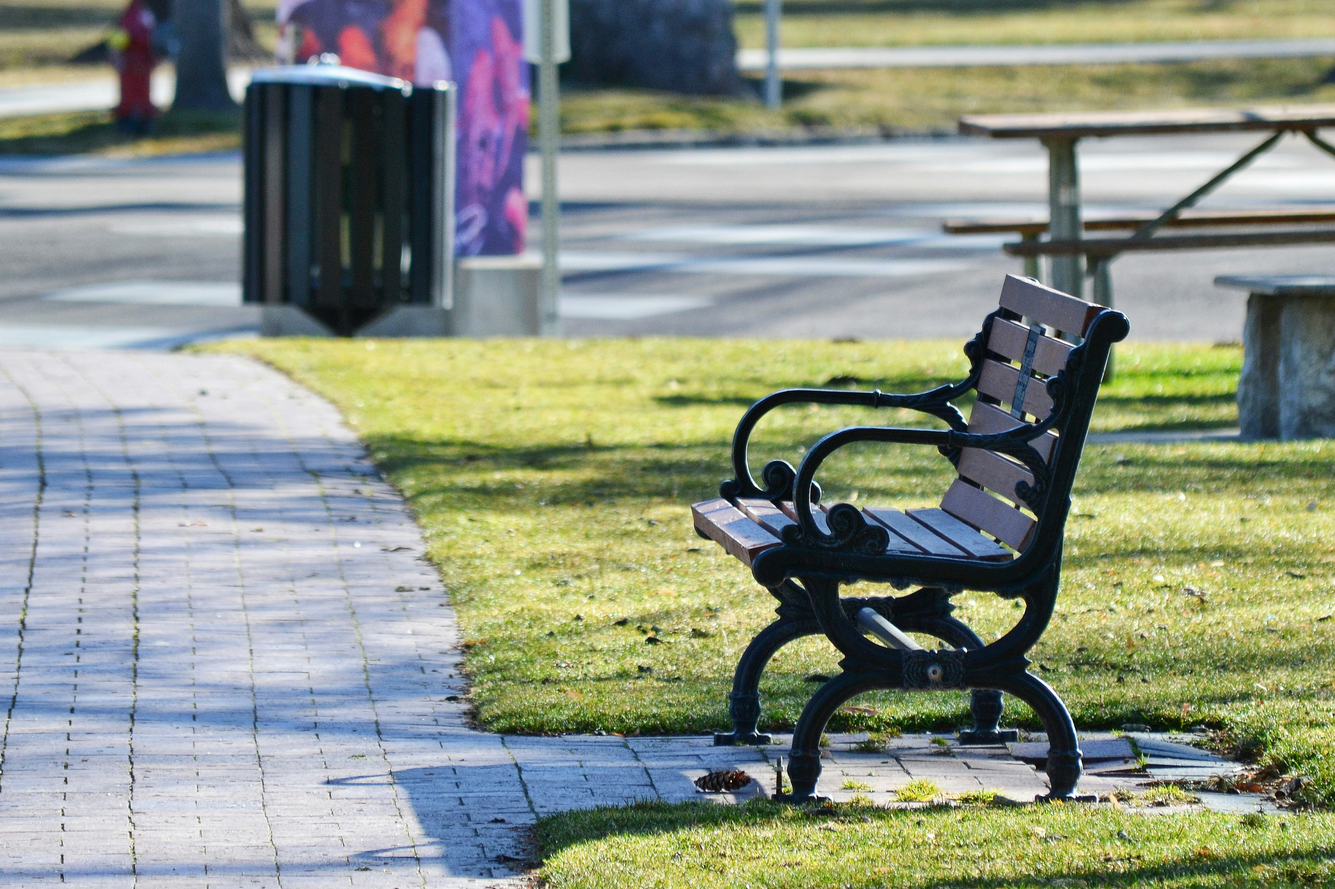Chair: (683, 269, 1142, 809)
TrashBin: (221, 52, 466, 347)
